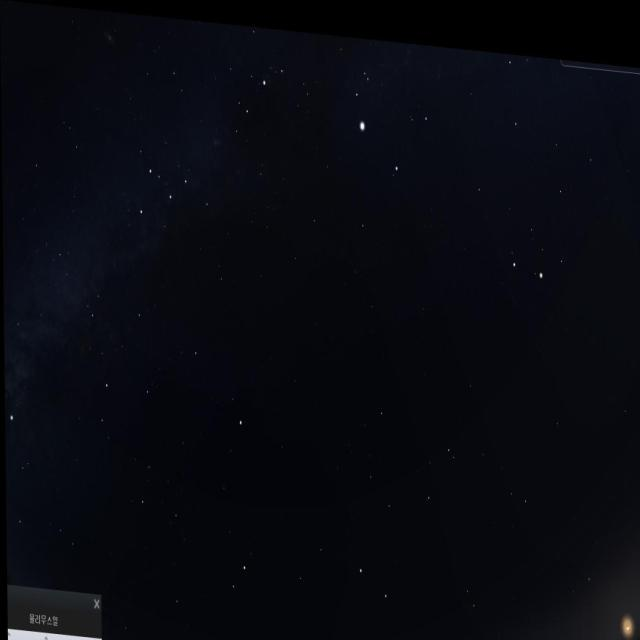cassiopeia: (131, 131, 216, 246)
moon: (603, 567, 640, 640)
